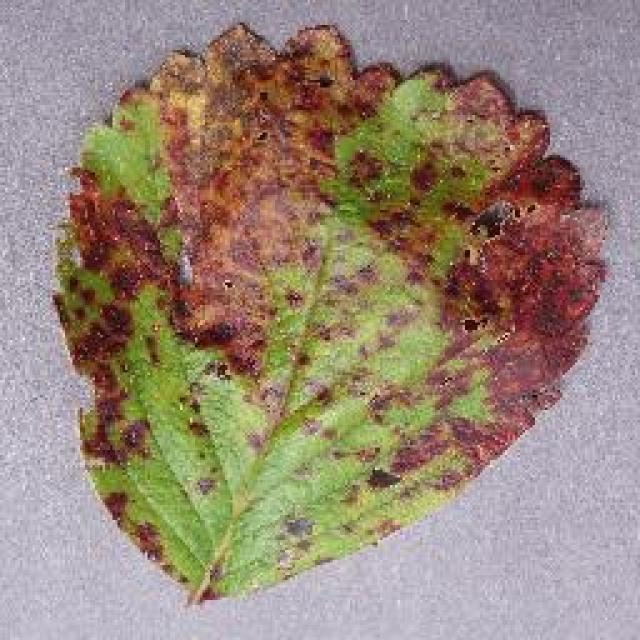Strawberry___Leaf_scorch: (32, 0, 622, 628)
